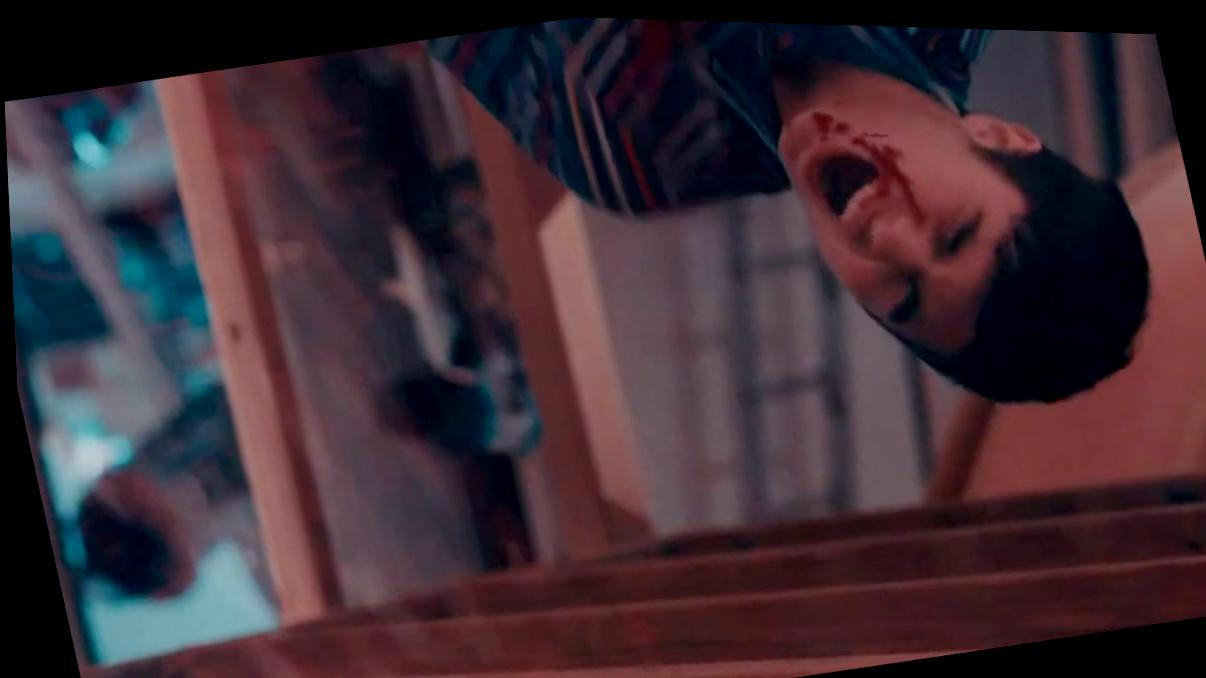Fire: (814, 107, 912, 202)
